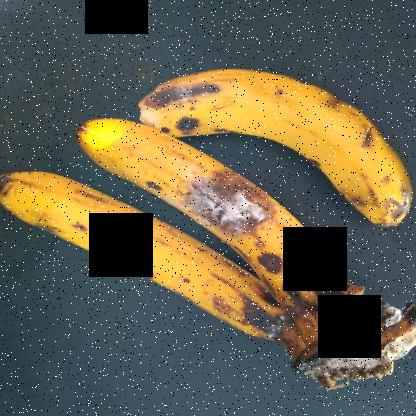ripe: (125, 51, 415, 225), (2, 170, 284, 337)
rotten: (80, 110, 338, 299)
